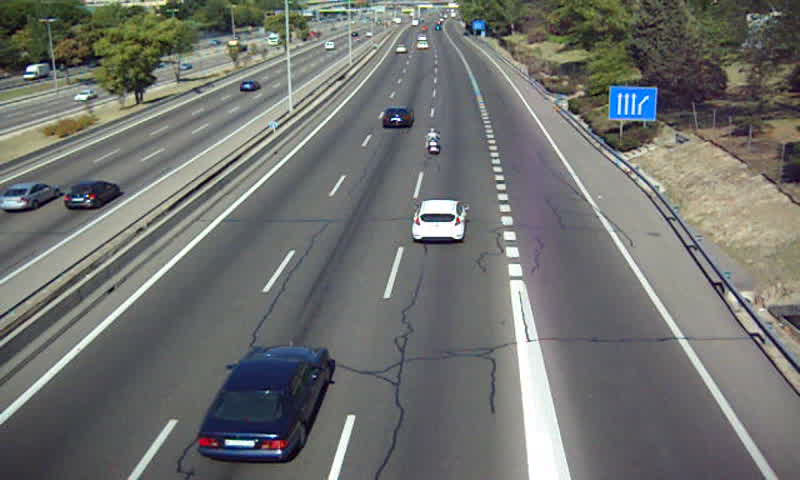car: (197, 345, 330, 459), (412, 200, 466, 240), (381, 106, 414, 128)
motorcycle: (424, 127, 443, 155)
